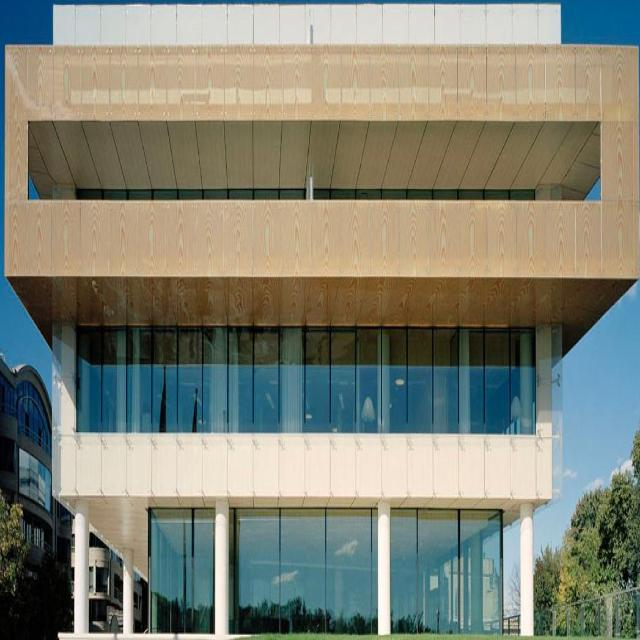plant: (533, 432, 639, 639), (0, 497, 22, 596)
wall: (2, 0, 638, 631)
windows: (73, 322, 535, 428), (146, 500, 498, 624), (73, 184, 534, 198)
